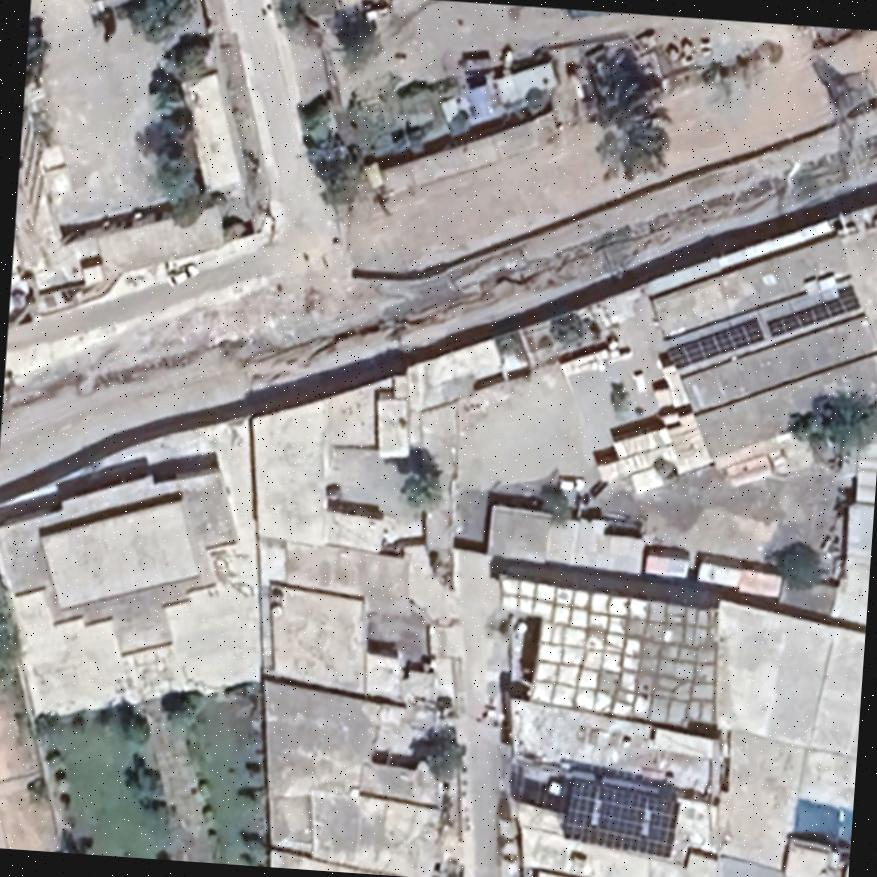Solarpanel: (656, 280, 867, 376), (553, 767, 683, 858)
